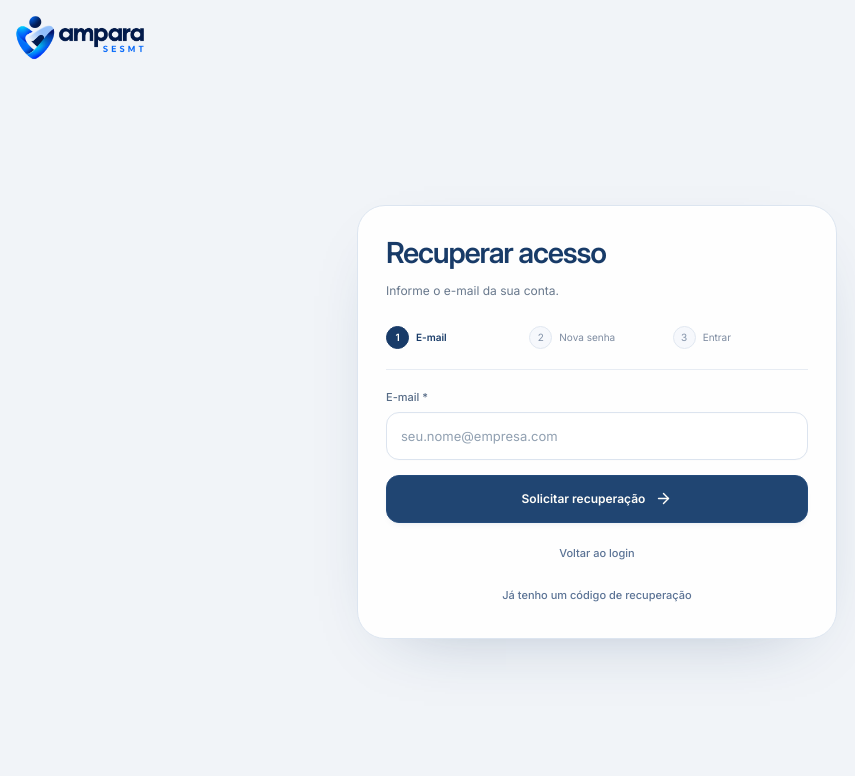
Scenario: continuidade do acesso › envia recuperação pelo contrato adapter no endpoint /auth/password/forgot
This screenshot has width=855, height=776.
Type "  conta@example.invalid  " into the field labelled "E-mail" at (597, 436), box [386,412,808,460]
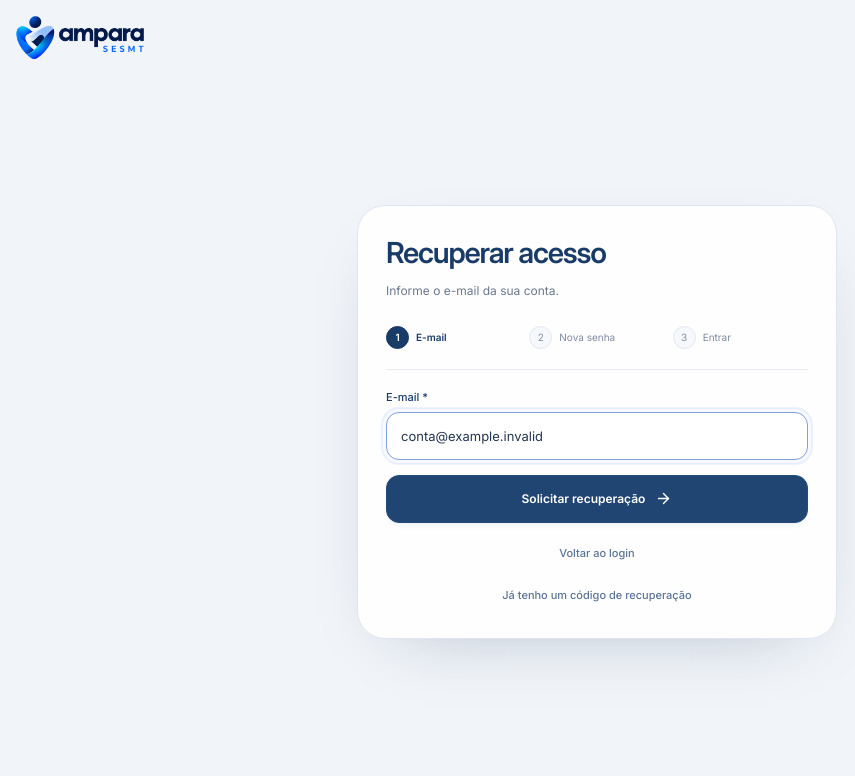
Click the button "Solicitar recuperação" at (597, 499), box [386,475,808,523]
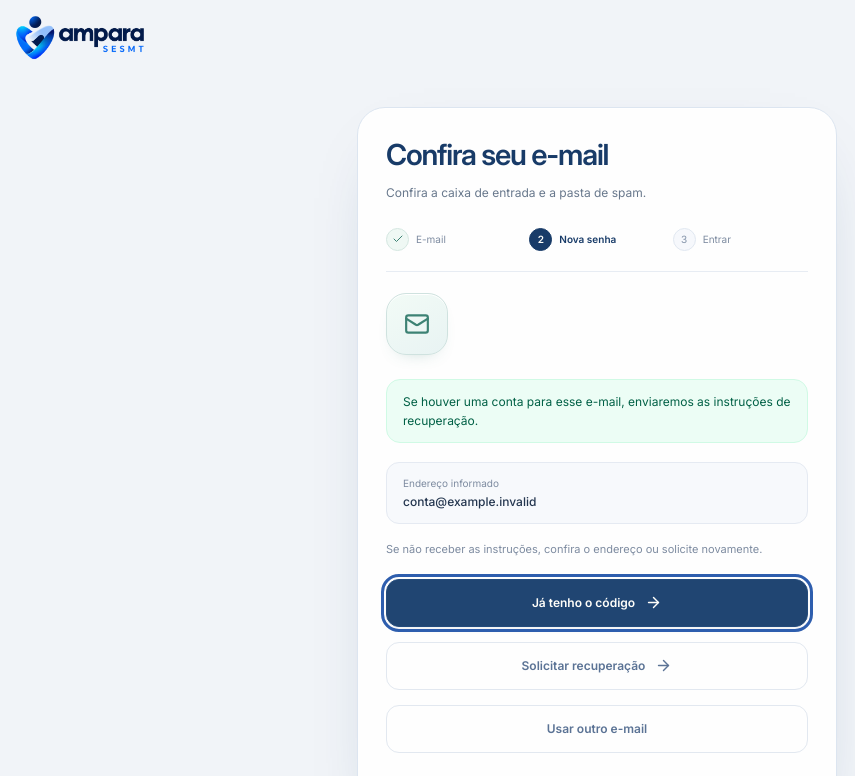
Check: the heading "Confira seu e-mail" is shown, box [386,137,608,172]
